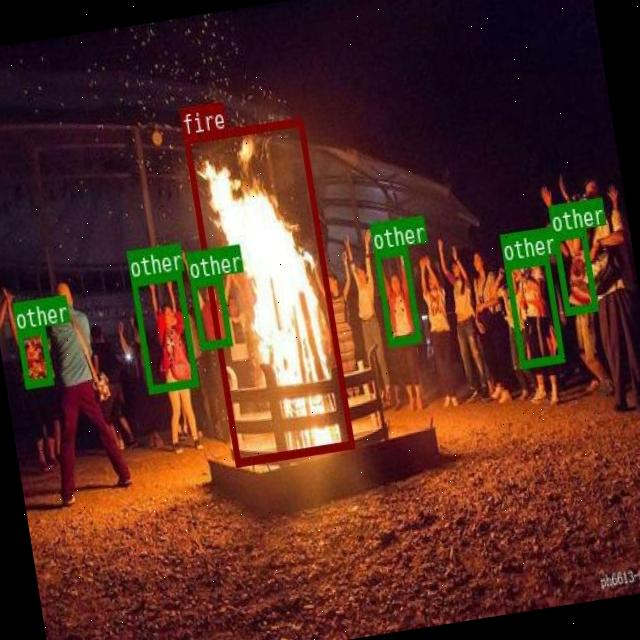fire: (183, 117, 354, 466)
